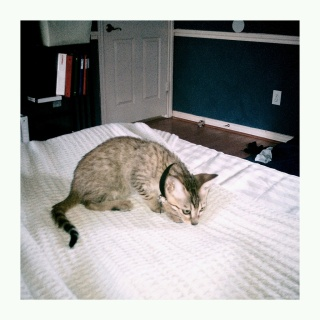Cat: (49, 134, 220, 249)
